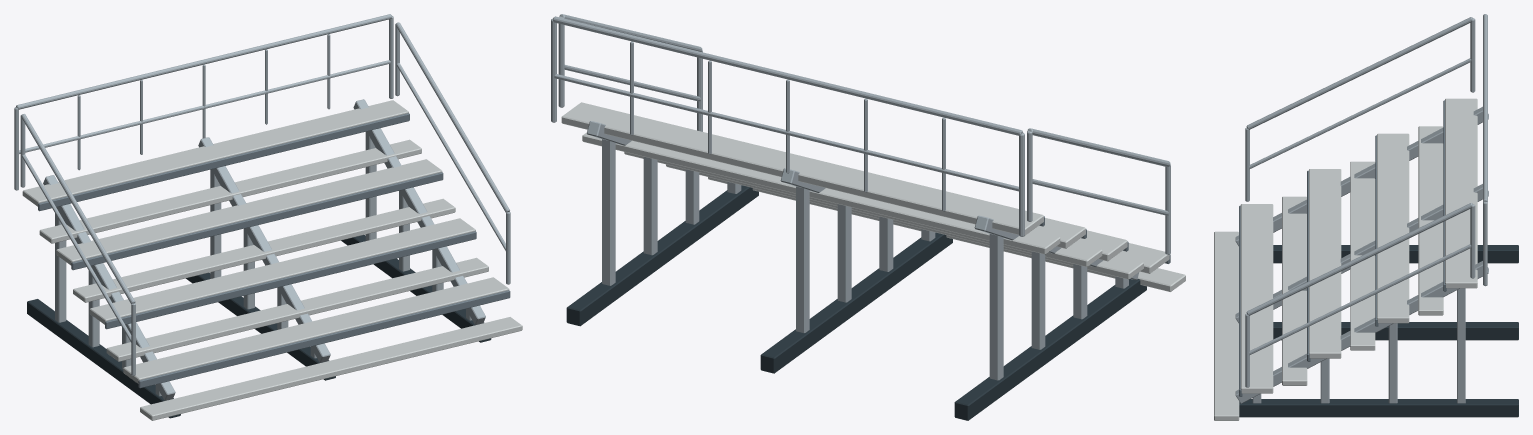
Rendered from b09_four_row_bleachers.glb.
The picture shows the model from 3 angles, left to right: view 1: azimuth 30°, elevation 25°; view 2: azimuth 150°, elevation 25°; view 3: azimuth 270°, elevation 25°; orthographic projection. The views are drawn at different scales.
Visible parts, largest first — view 1: b09_four_row_bleachers; view 2: b09_four_row_bleachers; view 3: b09_four_row_bleachers.
Boxes of the visible parts, left/top/right/bottom form: b09_four_row_bleachers: left=14, top=14, right=522, bottom=420; b09_four_row_bleachers: left=551, top=14, right=1185, bottom=420; b09_four_row_bleachers: left=1214, top=14, right=1518, bottom=420.
Bounding box in the file's own units: 4.25 × 2.43 × 2.91.
